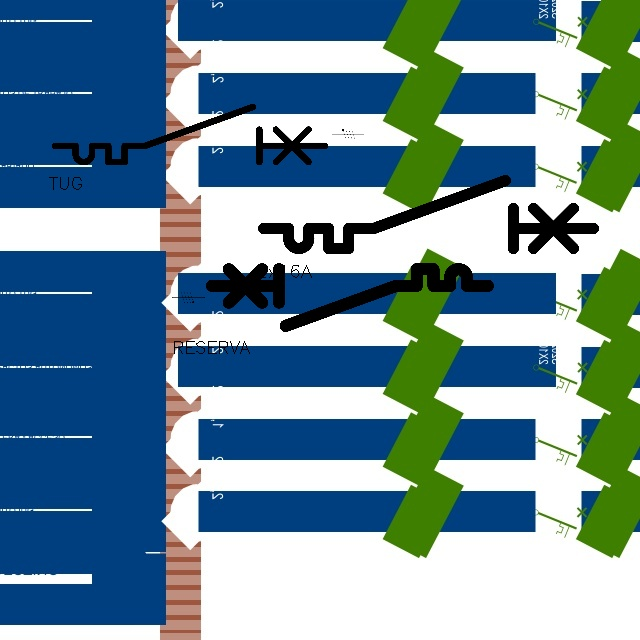interruptor_termomagnetico: (255, 172, 602, 257), (204, 262, 494, 333), (48, 100, 332, 169)
